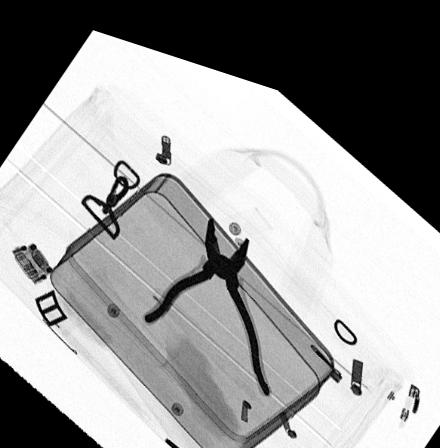Pliers: (142, 201, 274, 383)
